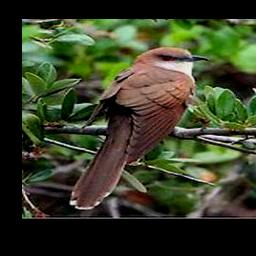Cuckoo: (70, 47, 209, 209)
